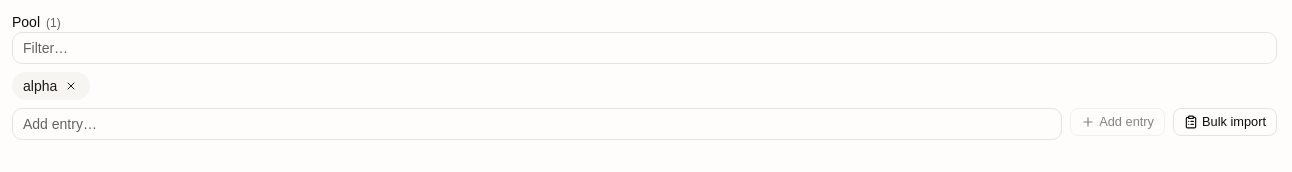
Scenario: TagListEditor › search › shows a no-matches message when the query excludes everything
The width and height of the screenshot is (1292, 172).
Type "zzz" into the search field named "Filter pool entries" at (644, 48), box [12, 32, 1277, 64]
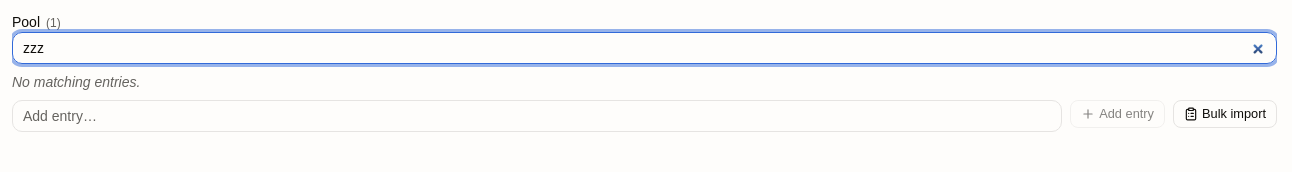
Expected: the text "No matching entries." is shown, [12, 74, 140, 90]
